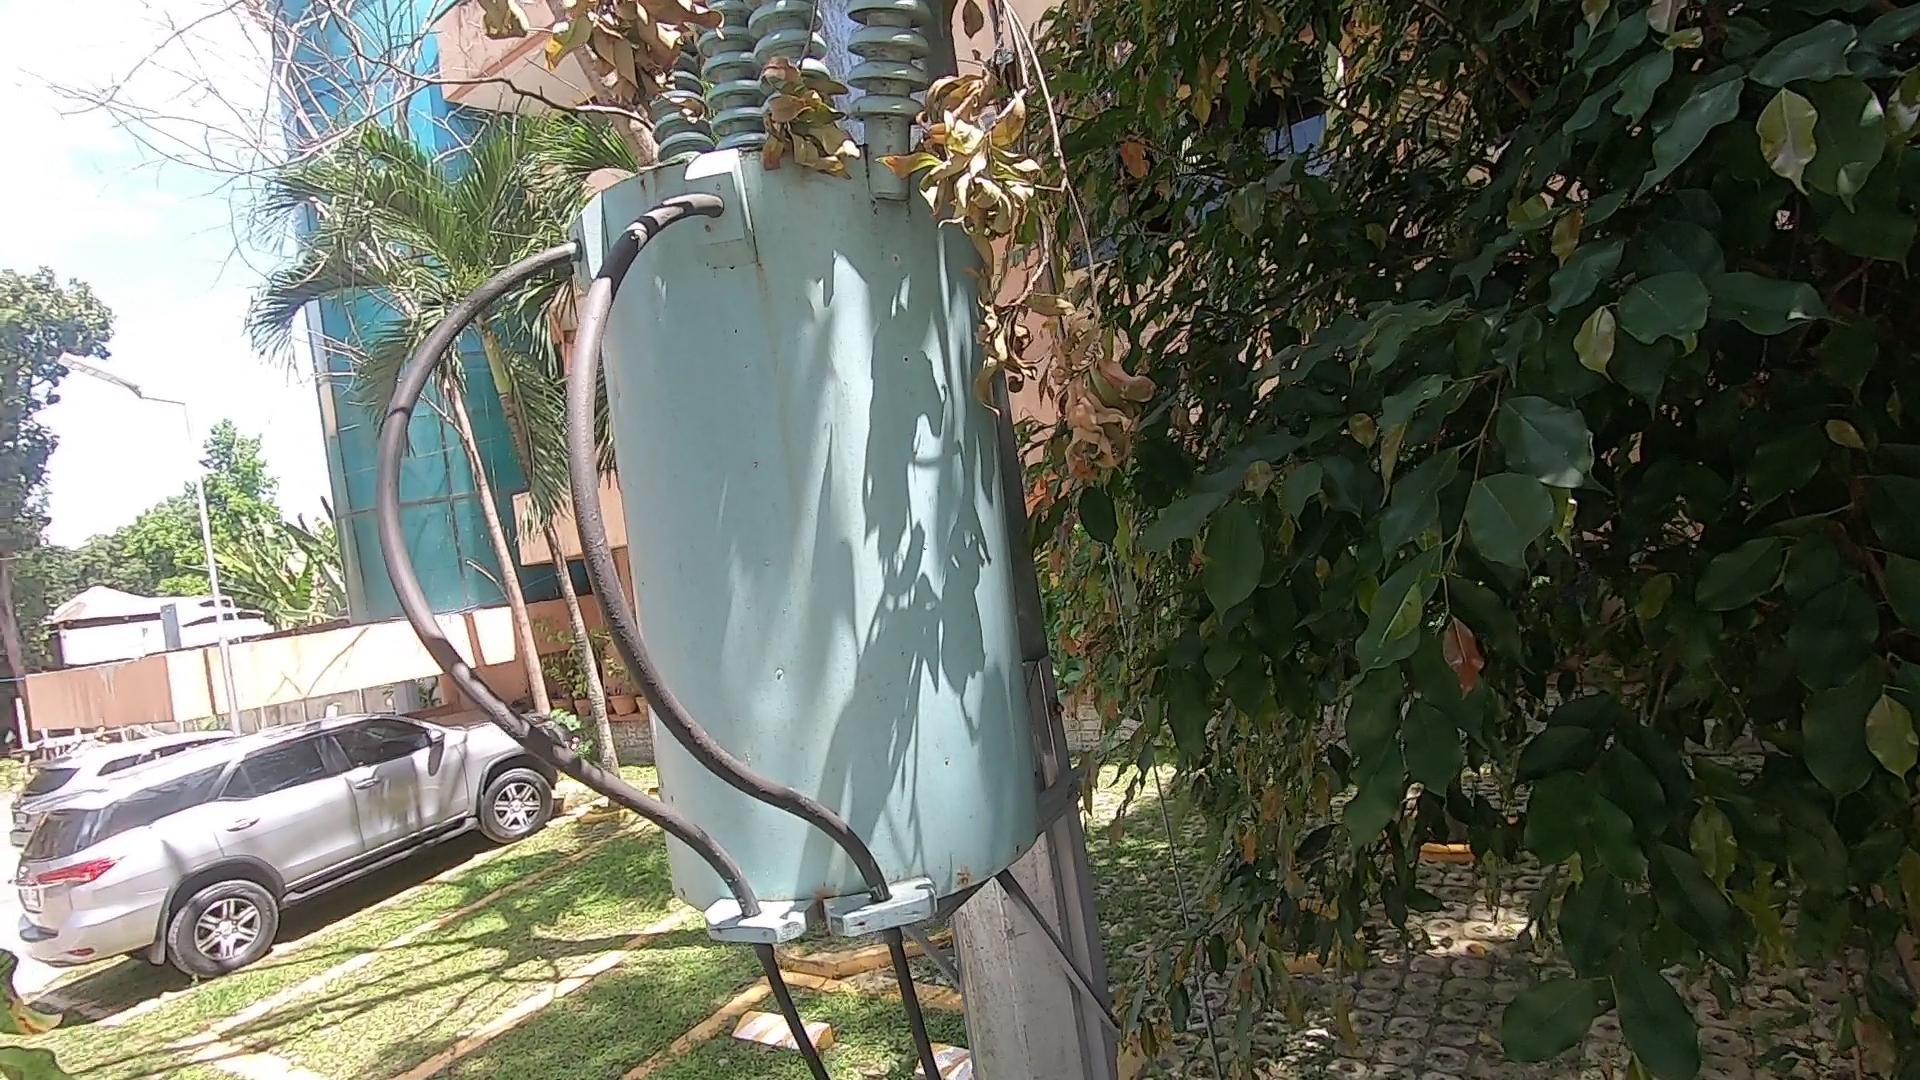branch with leaves: (880, 1, 1170, 505), (462, 1, 742, 105), (742, 1, 865, 196)
leaf: (640, 142, 708, 194)
